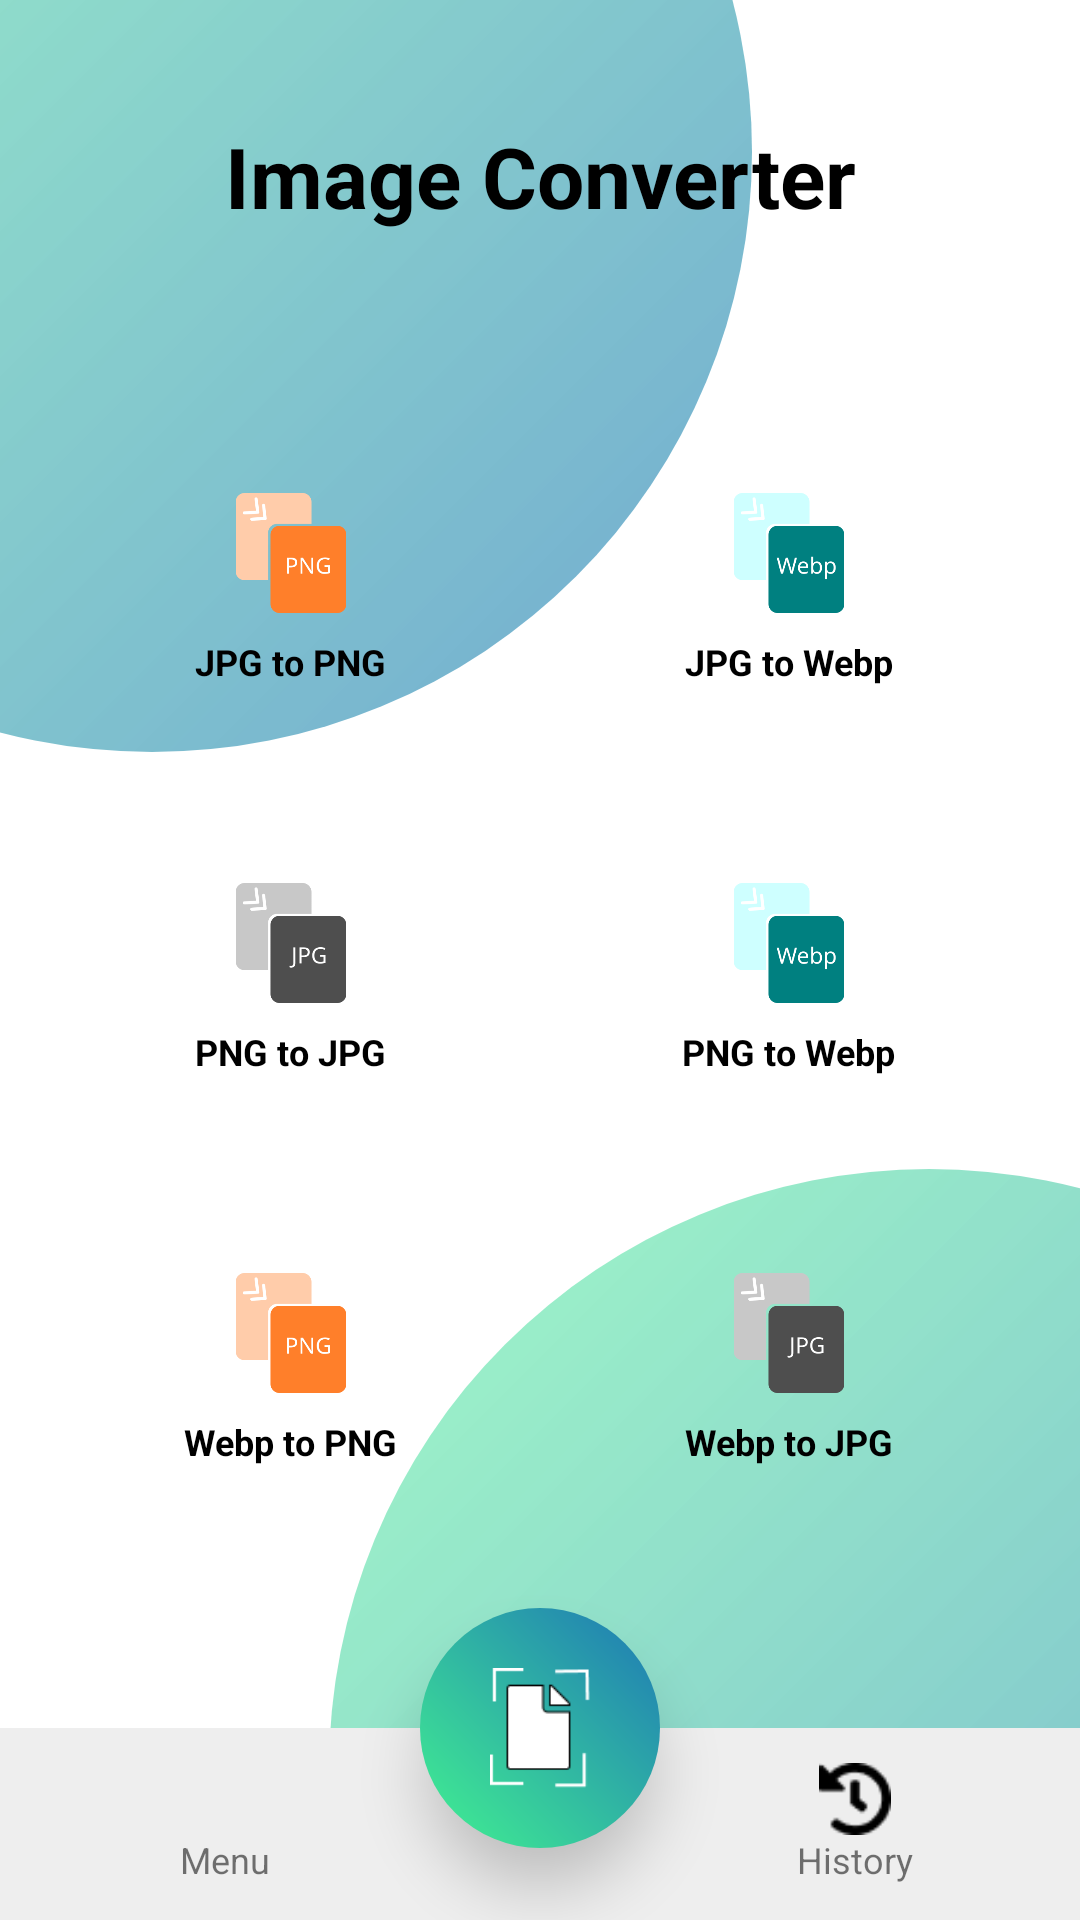

Icons on this 1080px x 1920px Android screen, each with the point to tap as point (x, y):
scan: point (540, 1728)
